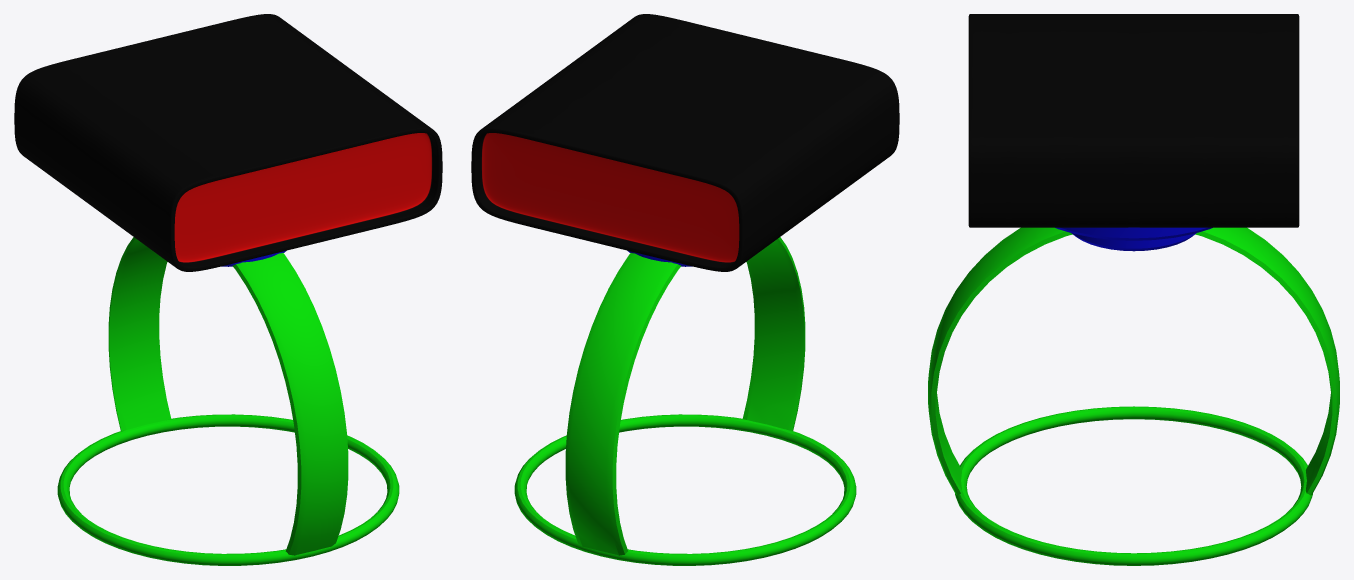
Rendered from You.fbx.
The picture shows the model from 3 angles, left to right: view 1: azimuth 30°, elevation 25°; view 2: azimuth 150°, elevation 25°; view 3: azimuth 270°, elevation 25°; orthographic projection. The views are drawn at different scales.
Parts seen in each view (by area): view 1: You; view 2: You; view 3: You.
Part boxes in pixels (x1=…): You: x1=14, y1=14, x2=442, y2=565; You: x1=471, y1=14, x2=899, y2=565; You: x1=928, y1=14, x2=1339, y2=565.
Bounding box in the file's own units: 145 × 186 × 166.
